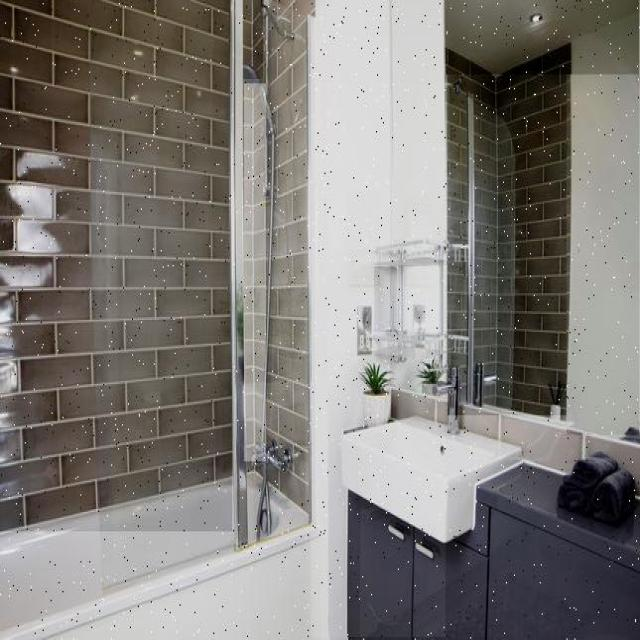Wall: (0, 0, 232, 531), (311, 0, 446, 637), (448, 48, 570, 415), (567, 13, 639, 435), (266, 0, 316, 512), (445, 1, 640, 74), (244, 84, 269, 461), (405, 267, 440, 332), (243, 0, 263, 79), (375, 268, 397, 332), (449, 263, 467, 335)
